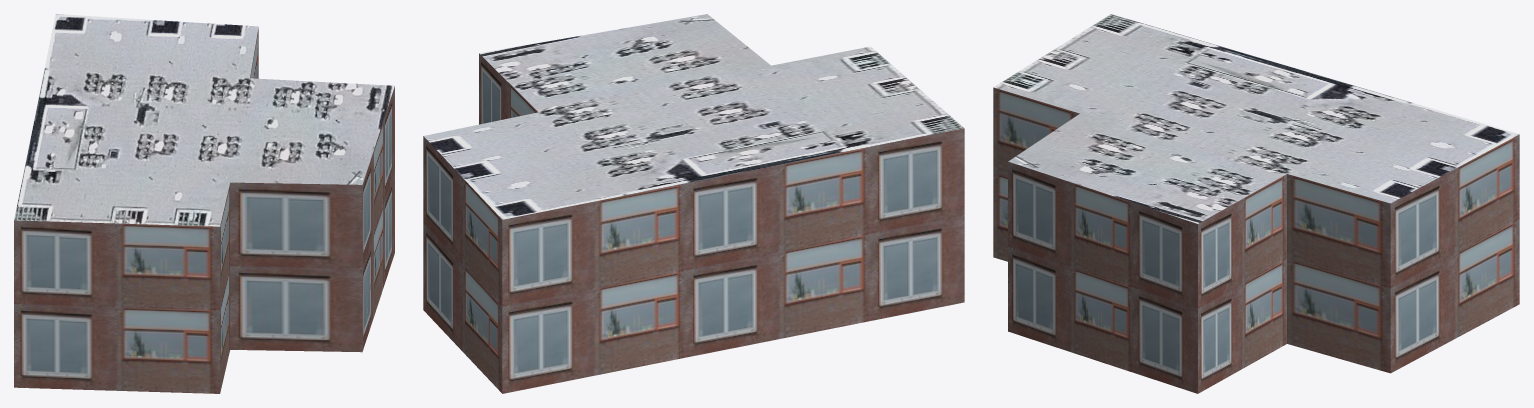
Rendered from ResTex__3178.fbx.
3 renders of one model, left to right at view 1: azimuth 30°, elevation 25°; view 2: azimuth 150°, elevation 25°; view 3: azimuth 270°, elevation 25°, orthographic. The views are drawn at different scales.
Visible parts, largest first — view 1: CityEngineMaterial_19_m, CityEngineMaterial_4_m; view 2: CityEngineMaterial_19_m, CityEngineMaterial_4_m; view 3: CityEngineMaterial_19_m, CityEngineMaterial_4_m.
Part boxes in pixels (x1=…): CityEngineMaterial_19_m: x1=14, y1=28, x2=394, y2=393; CityEngineMaterial_4_m: x1=14, y1=14, x2=394, y2=226; CityEngineMaterial_19_m: x1=423, y1=53, x2=964, y2=393; CityEngineMaterial_4_m: x1=424, y1=14, x2=963, y2=219; CityEngineMaterial_19_m: x1=993, y1=87, x2=1519, y2=393; CityEngineMaterial_4_m: x1=993, y1=14, x2=1518, y2=223.
Size of the model in its own units: 15.9 by 6 by 16.84.
Materials: 2 (2 with a texture image).
